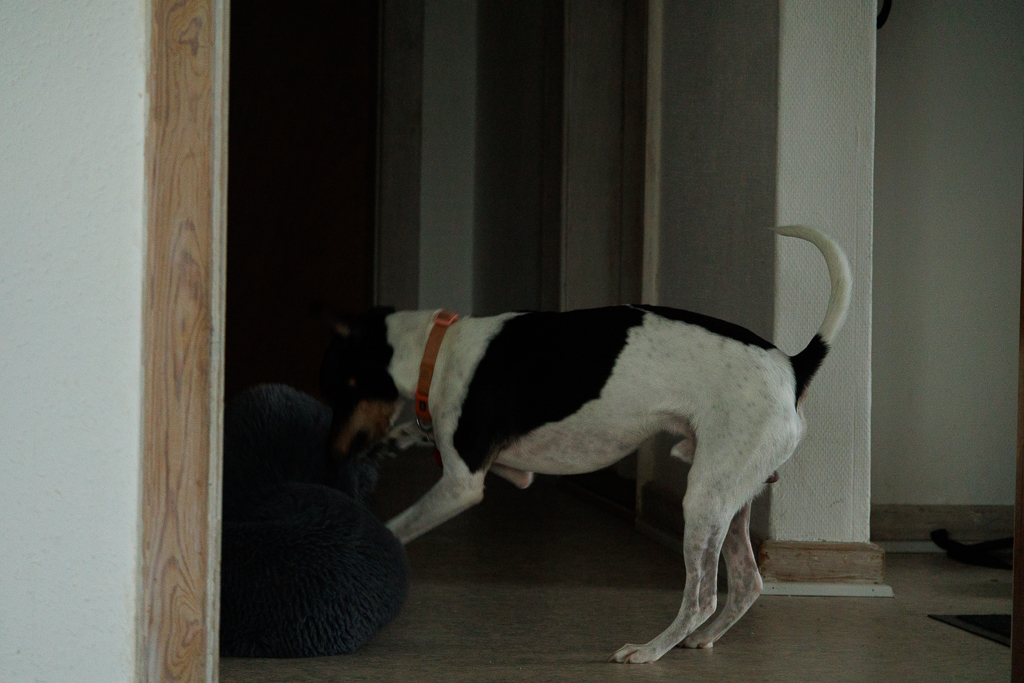Dog: (305, 217, 862, 670)
